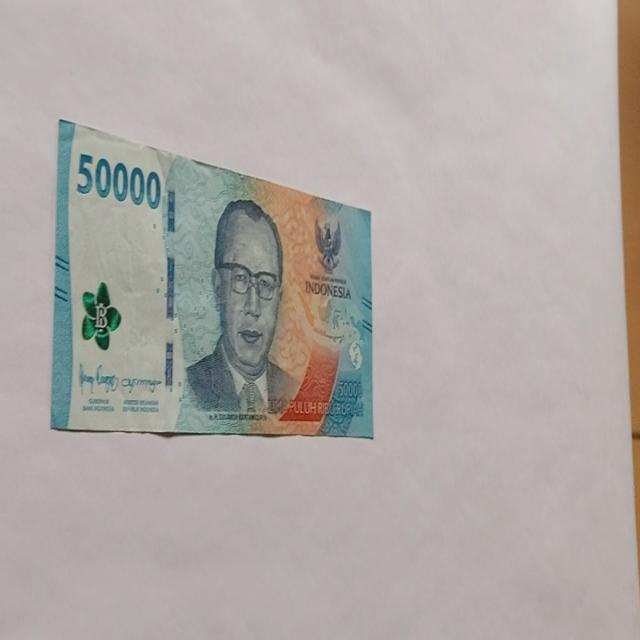lima puluh ribu rupiah: (50, 117, 374, 439), (176, 196, 304, 432)
